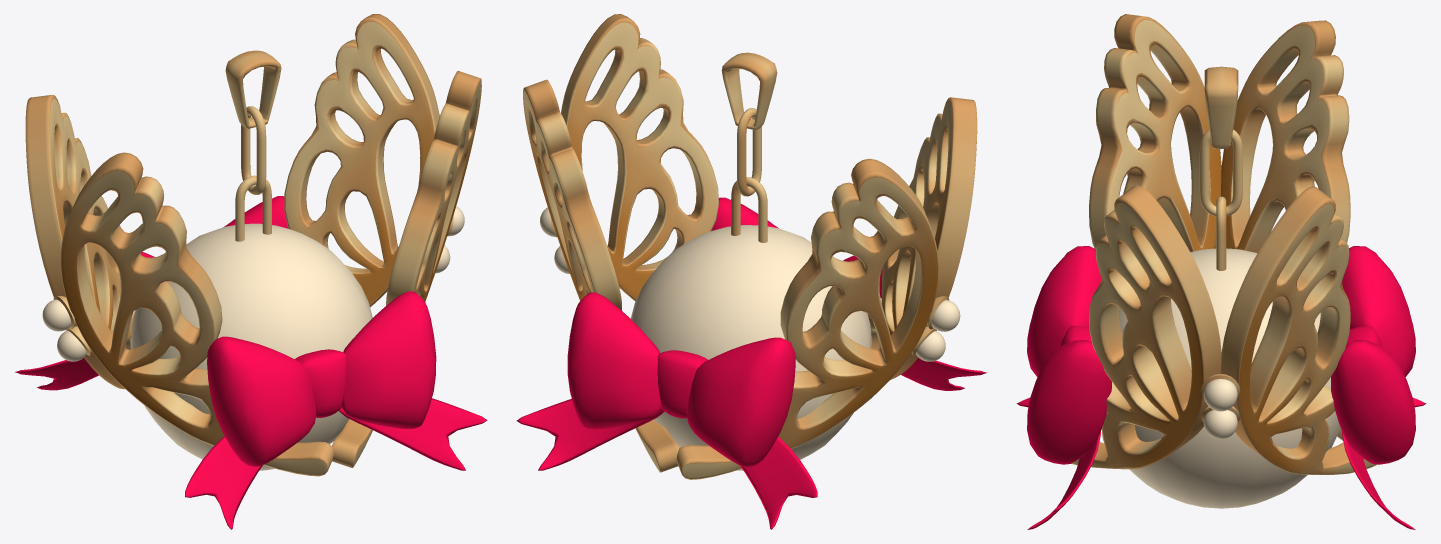
File: necklace1.fbx
3 views of the same model, side by side, from view 1: azimuth 30°, elevation 25°; view 2: azimuth 150°, elevation 25°; view 3: azimuth 270°, elevation 25° (orthographic). The views are drawn at different scales.
Parts seen in each view (by area): view 1: group14_pPlane9; view 2: group14_pPlane9; view 3: group14_pPlane9.
Part boxes in pixels (bbox=[...]): group14_pPlane9: bbox=[15, 14, 487, 529]; group14_pPlane9: bbox=[516, 14, 987, 529]; group14_pPlane9: bbox=[1016, 14, 1426, 529].
Size of the model in its own units: 69.85 by 64.61 by 56.38.
3 materials, 1 textured.
